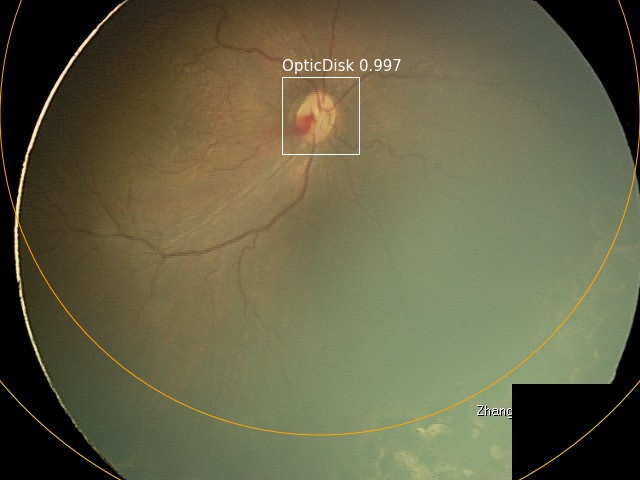Macula: (106, 55, 210, 159)
OpticDisk: (291, 82, 357, 148)
